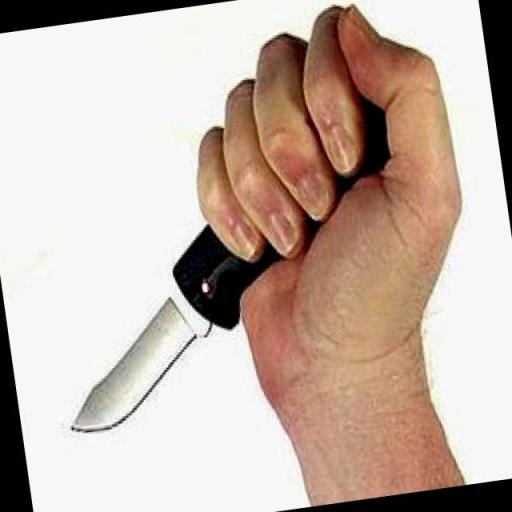knife: (17, 102, 356, 452)
